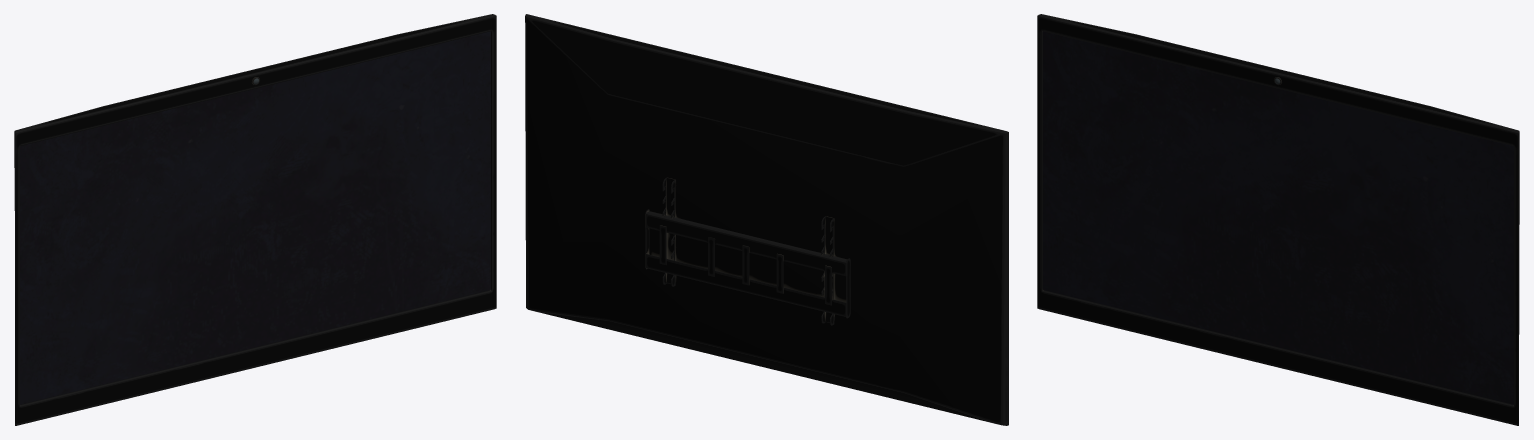
The picture shows the model from 3 angles, left to right: view 1: azimuth 30°, elevation 25°; view 2: azimuth 150°, elevation 25°; view 3: azimuth 330°, elevation 25°; orthographic projection.
Visible parts, largest first — view 1: InteractiveWhiteboard; view 2: InteractiveWhiteboard; view 3: InteractiveWhiteboard.
Part boxes in pixels (x1=…): InteractiveWhiteboard: x1=14, y1=14, x2=496, y2=425; InteractiveWhiteboard: x1=525, y1=14, x2=1008, y2=425; InteractiveWhiteboard: x1=1037, y1=14, x2=1519, y2=425.
Size of the model in its own units: 307 by 179 by 25.04.
